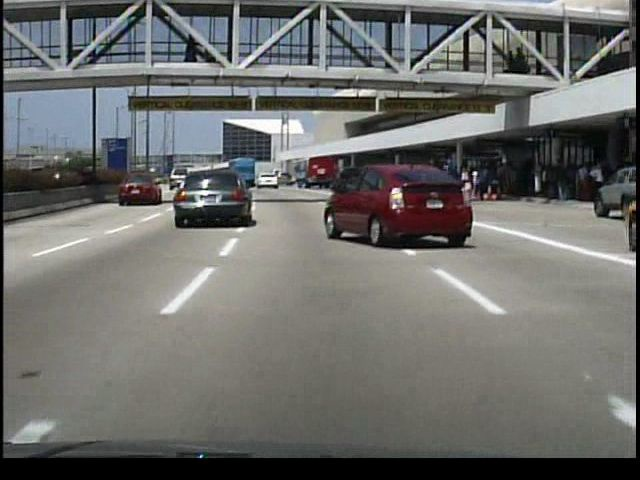person: (477, 163, 492, 203), (186, 34, 202, 65)
